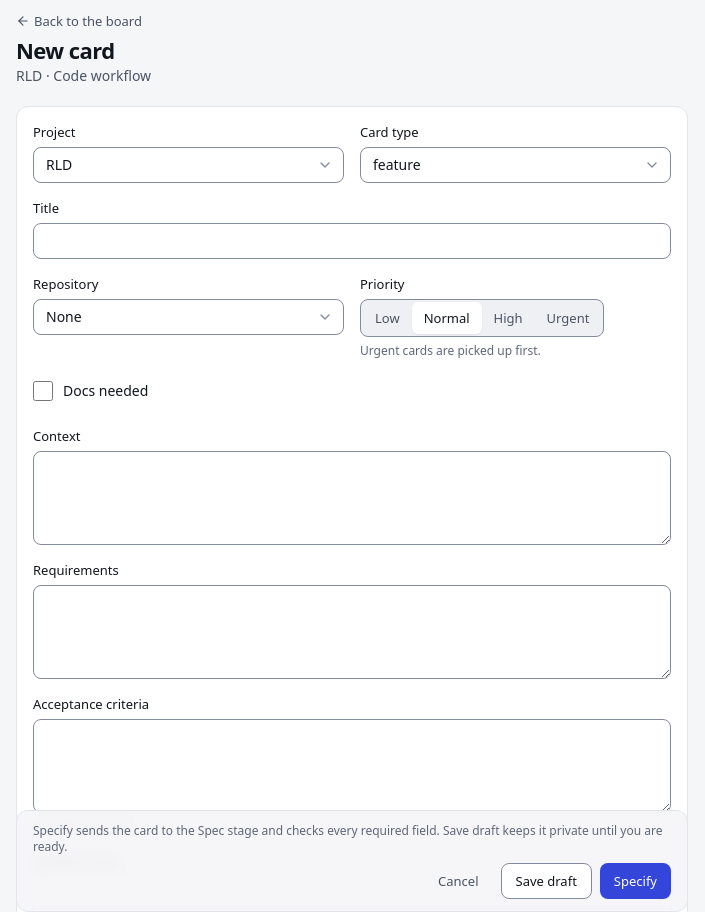
Test: research cards in a code project › the type select offers research and the form asks for the question
Expected: the field labelled "Question" is not shown
Select "research" in the dropdown labelled "Card type": (516, 165) x1=360 y1=147 x2=671 y2=183
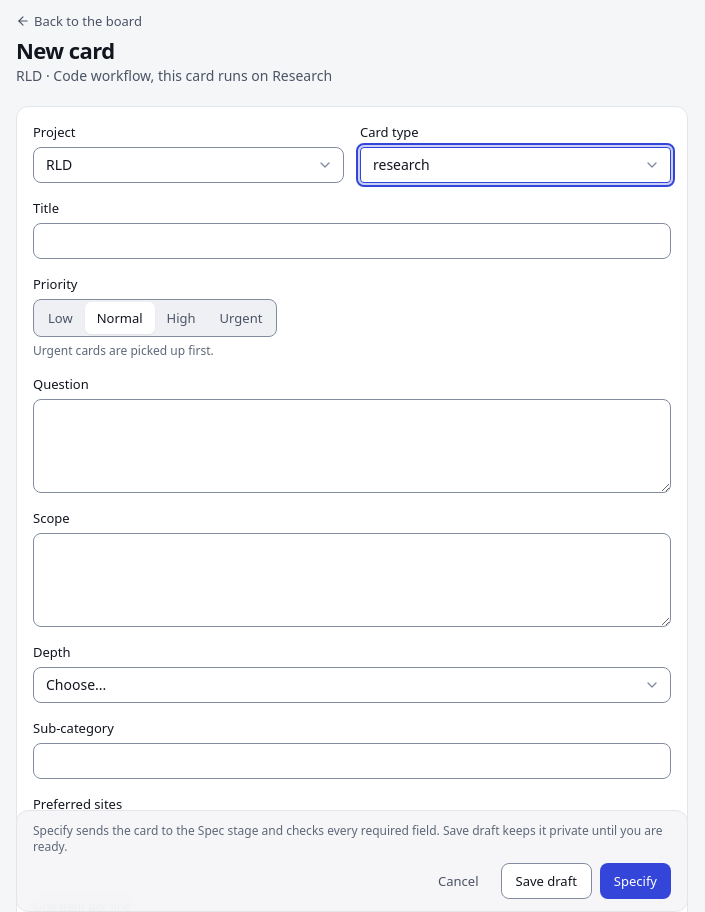
Expected: the text box labelled "Question" is shown, x1=33 y1=399 x2=671 y2=493
Now the label labelled "Repository" is gone
